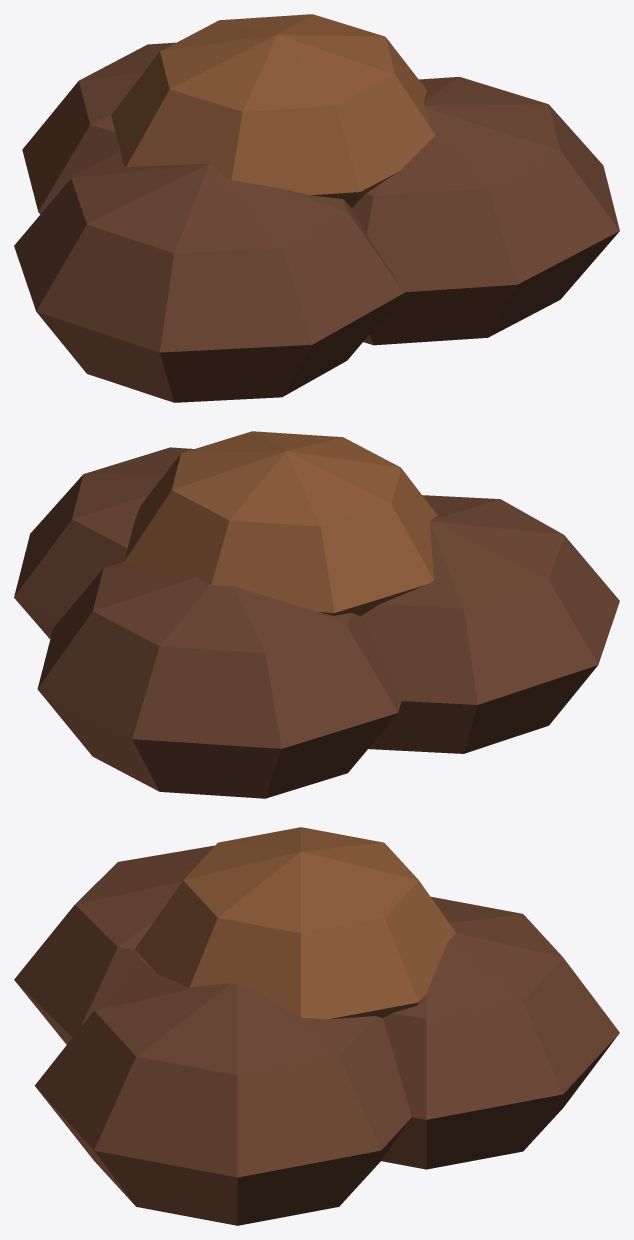
Rendered from manure.glb.
3 views of the same model, one above another, from view 1: azimuth 30°, elevation 25°; view 2: azimuth 150°, elevation 25°; view 3: azimuth 270°, elevation 25° (orthographic). The views are drawn at different scales.
Visible parts, largest first — view 1: Manure_lower_lump, Manure_lower_lump.001, Manure_upper_lump, Manure_lower_lump.002; view 2: Manure_lower_lump.002, Manure_lower_lump, Manure_upper_lump, Manure_lower_lump.001; view 3: Manure_lower_lump.001, Manure_upper_lump, Manure_lower_lump.002, Manure_lower_lump.
Boxes of the visible parts, x1,y1,x2,y2 form: Manure_lower_lump: (14, 151, 404, 402); Manure_lower_lump.001: (351, 76, 619, 345); Manure_upper_lump: (111, 14, 435, 207); Manure_lower_lump.002: (22, 42, 175, 214); Manure_lower_lump.002: (37, 562, 401, 798); Manure_lower_lump: (361, 495, 619, 753); Manure_upper_lump: (124, 431, 437, 616); Manure_lower_lump.001: (14, 447, 193, 638); Manure_lower_lump.001: (34, 963, 411, 1225); Manure_upper_lump: (134, 827, 455, 1019); Manure_lower_lump.002: (381, 896, 619, 1169); Manure_lower_lump: (14, 845, 214, 1044).
Bounding box in the file's own units: 0.422 × 0.2 × 0.382.
